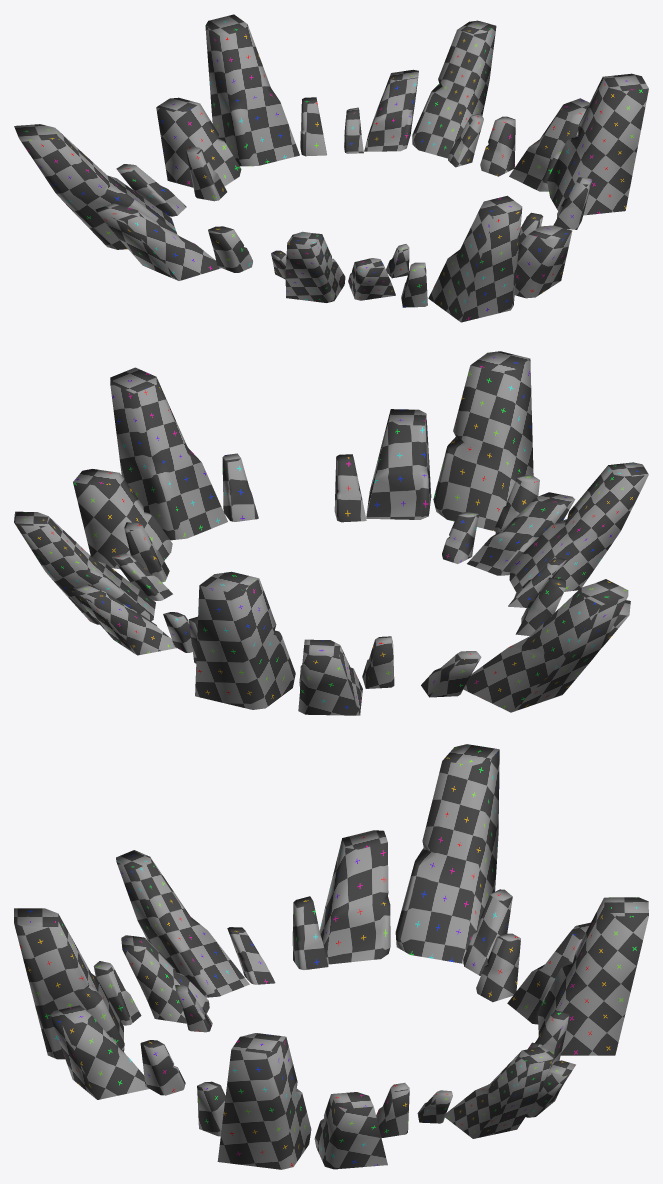
The model's file is Rock_Hit_Charge.glb.
3 renders of one model, top to bottom at view 1: azimuth 30°, elevation 25°; view 2: azimuth 150°, elevation 25°; view 3: azimuth 270°, elevation 25°, orthographic. The views are drawn at different scales.
Visible parts, largest first — view 1: Cube.002, Cube.001, Cube.003, Cube.004, Cube.006, Cube.005; view 2: Cube.004, Cube.001, Cube.002, Cube.005, Cube.003, Cube.006; view 3: Cube.003, Cube.001, Cube.002, Cube.004, Cube.005, Cube.006.
Boxes of the visible parts, <box> form: Cube.002: <box>156,14,326,201</box>; Cube.001: <box>480,73,648,229</box>; Cube.003: <box>14,124,252,280</box>; Cube.004: <box>401,195,572,322</box>; Cube.006: <box>344,20,496,167</box>; Cube.005: <box>271,231,409,302</box>; Cube.004: <box>334,351,539,533</box>; Cube.001: <box>73,367,258,582</box>; Cube.002: <box>188,571,394,715</box>; Cube.005: <box>442,462,648,607</box>; Cube.003: <box>421,577,630,712</box>; Cube.006: <box>14,511,192,655</box>; Cube.003: <box>292,744,512,975</box>; Cube.001: <box>197,1033,409,1169</box>; Cube.002: <box>476,897,648,1061</box>; Cube.004: <box>14,908,185,1099</box>; Cube.005: <box>116,850,275,1032</box>; Cube.006: <box>417,1042,575,1138</box>.
Bounding box in the file's own units: 8.18 × 1.74 × 7.22.
Materials: 1 (1 with a texture image).
